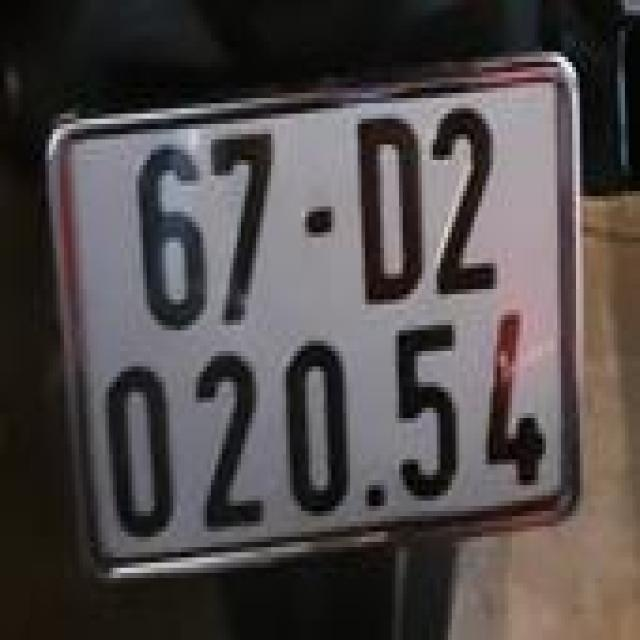0: (281, 333, 364, 519), (98, 359, 177, 539)
2: (429, 90, 516, 307), (188, 333, 275, 534)
4: (474, 286, 558, 508)
5: (386, 307, 469, 508)
6: (126, 119, 220, 346)
7: (207, 111, 290, 333)
D: (341, 100, 435, 296)
